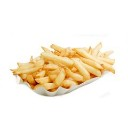frenchfries: (11, 35, 119, 84)
